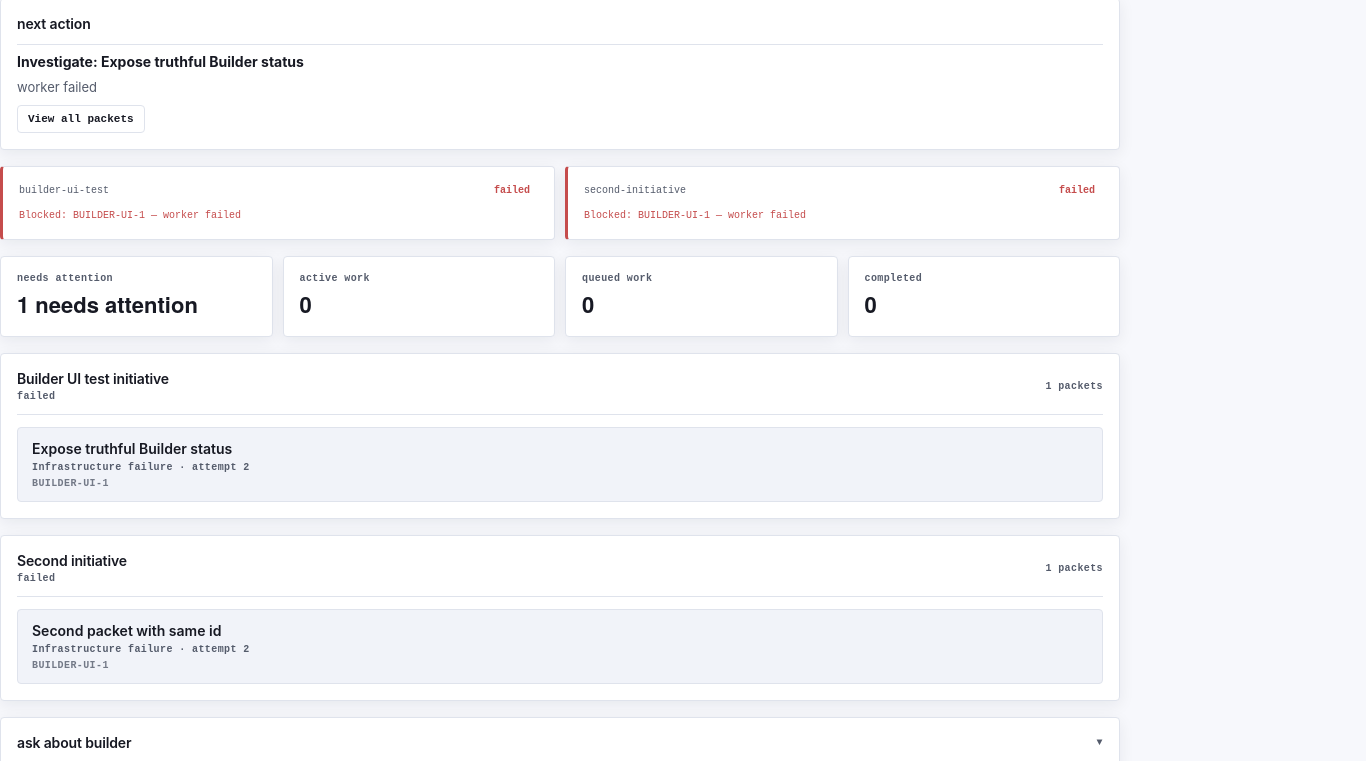
Test: BuilderSurface › uses initiative plus packet identity when packet ids collide
This screenshot has width=1366, height=761.
Click the button with aria-label "View packet Second packet with same id".
click(127, 630)  # box [17,609,1103,684]
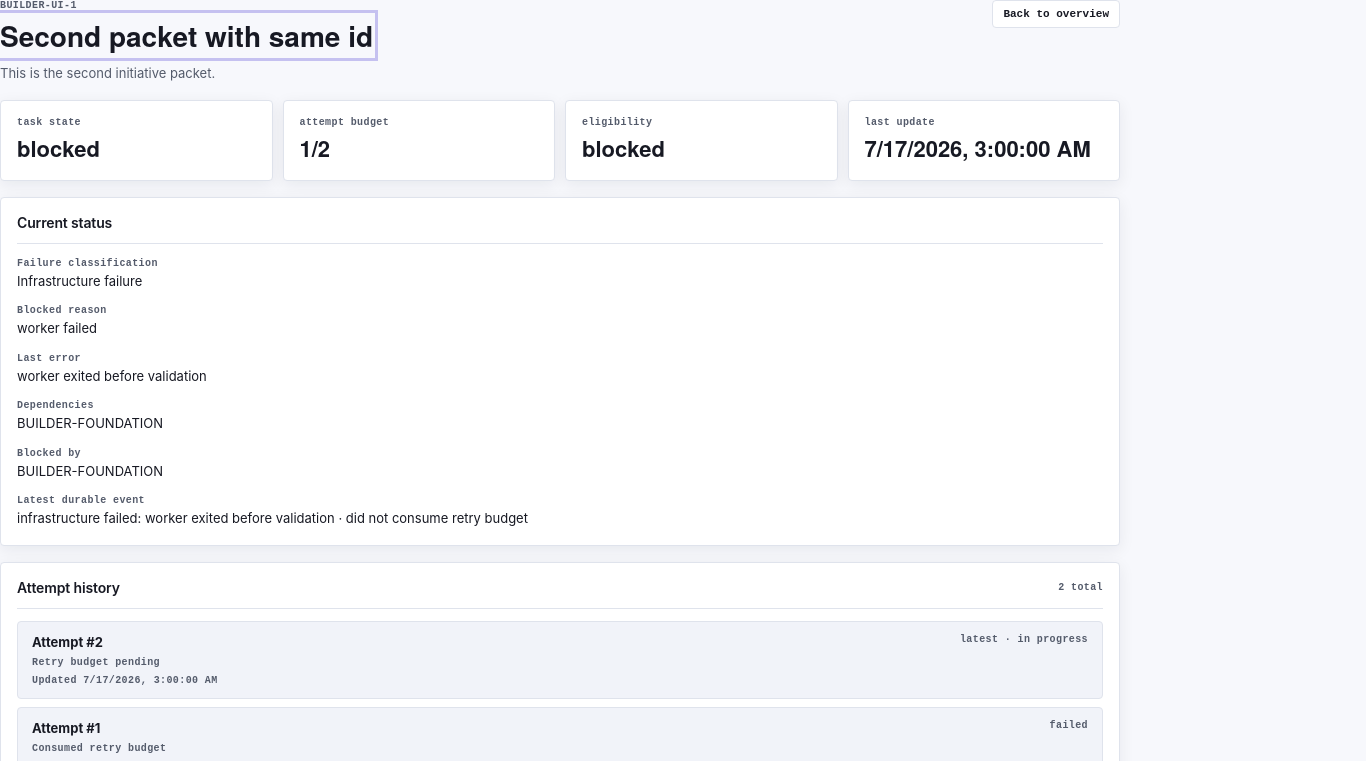
Now the text "This is the second initiative packet." is shown, box [0,65,215,81]
